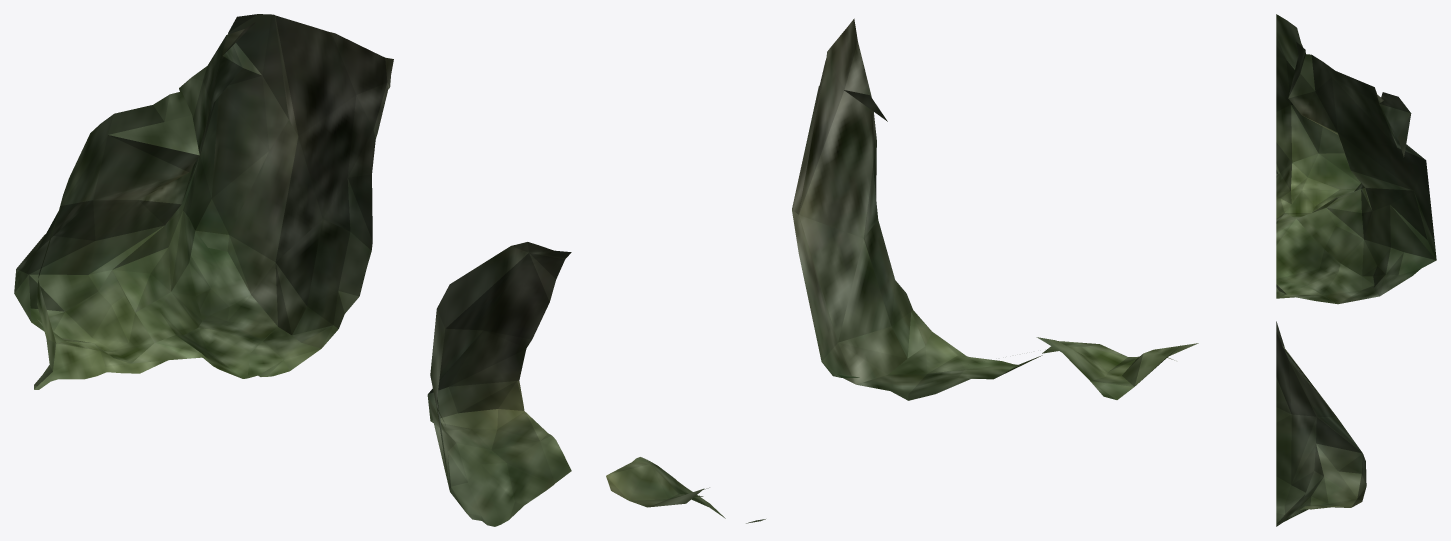
3 renders of one model, left to right at view 1: azimuth 30°, elevation 25°; view 2: azimuth 150°, elevation 25°; view 3: azimuth 270°, elevation 25°, orthographic. The views are drawn at different scales.
Bounding box in the file's own units: 2.99 × 2.61 × 1.04.
Materials: 1 (1 with a texture image).
